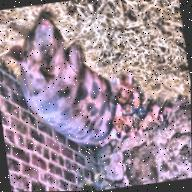boar: (0, 1, 176, 159)
